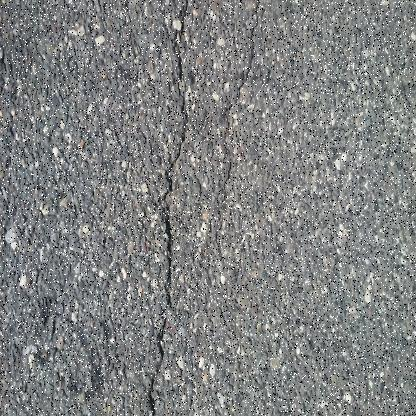Cracks: (146, 0, 196, 416)
